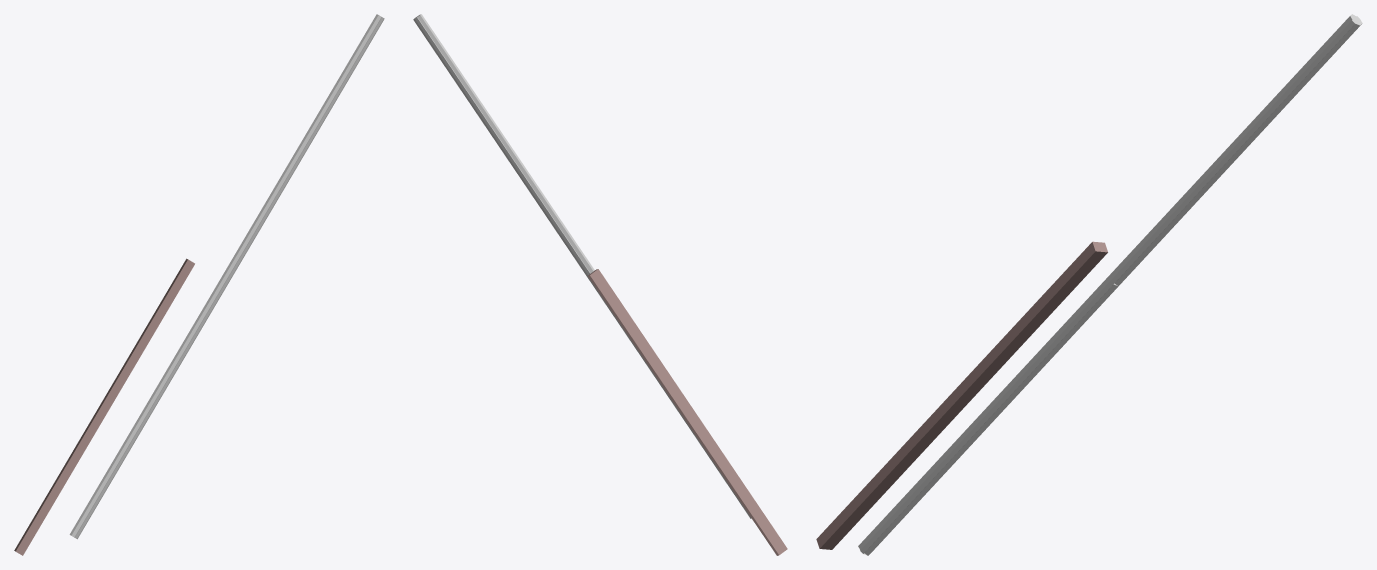
The picture shows the model from 3 angles, left to right: view 1: azimuth 30°, elevation 25°; view 2: azimuth 150°, elevation 25°; view 3: azimuth 330°, elevation 25°; orthographic projection. The views are drawn at different scales.
Visible parts, largest first — view 1: mesh; view 2: mesh; view 3: mesh.
Part boxes in pixels (box(x1,y1,x2,y2)): mesh: box(14, 14, 384, 555); mesh: box(413, 14, 787, 555); mesh: box(816, 14, 1362, 555).
Size of the model in its own units: 4.18 by 4.88 by 0.5476.
